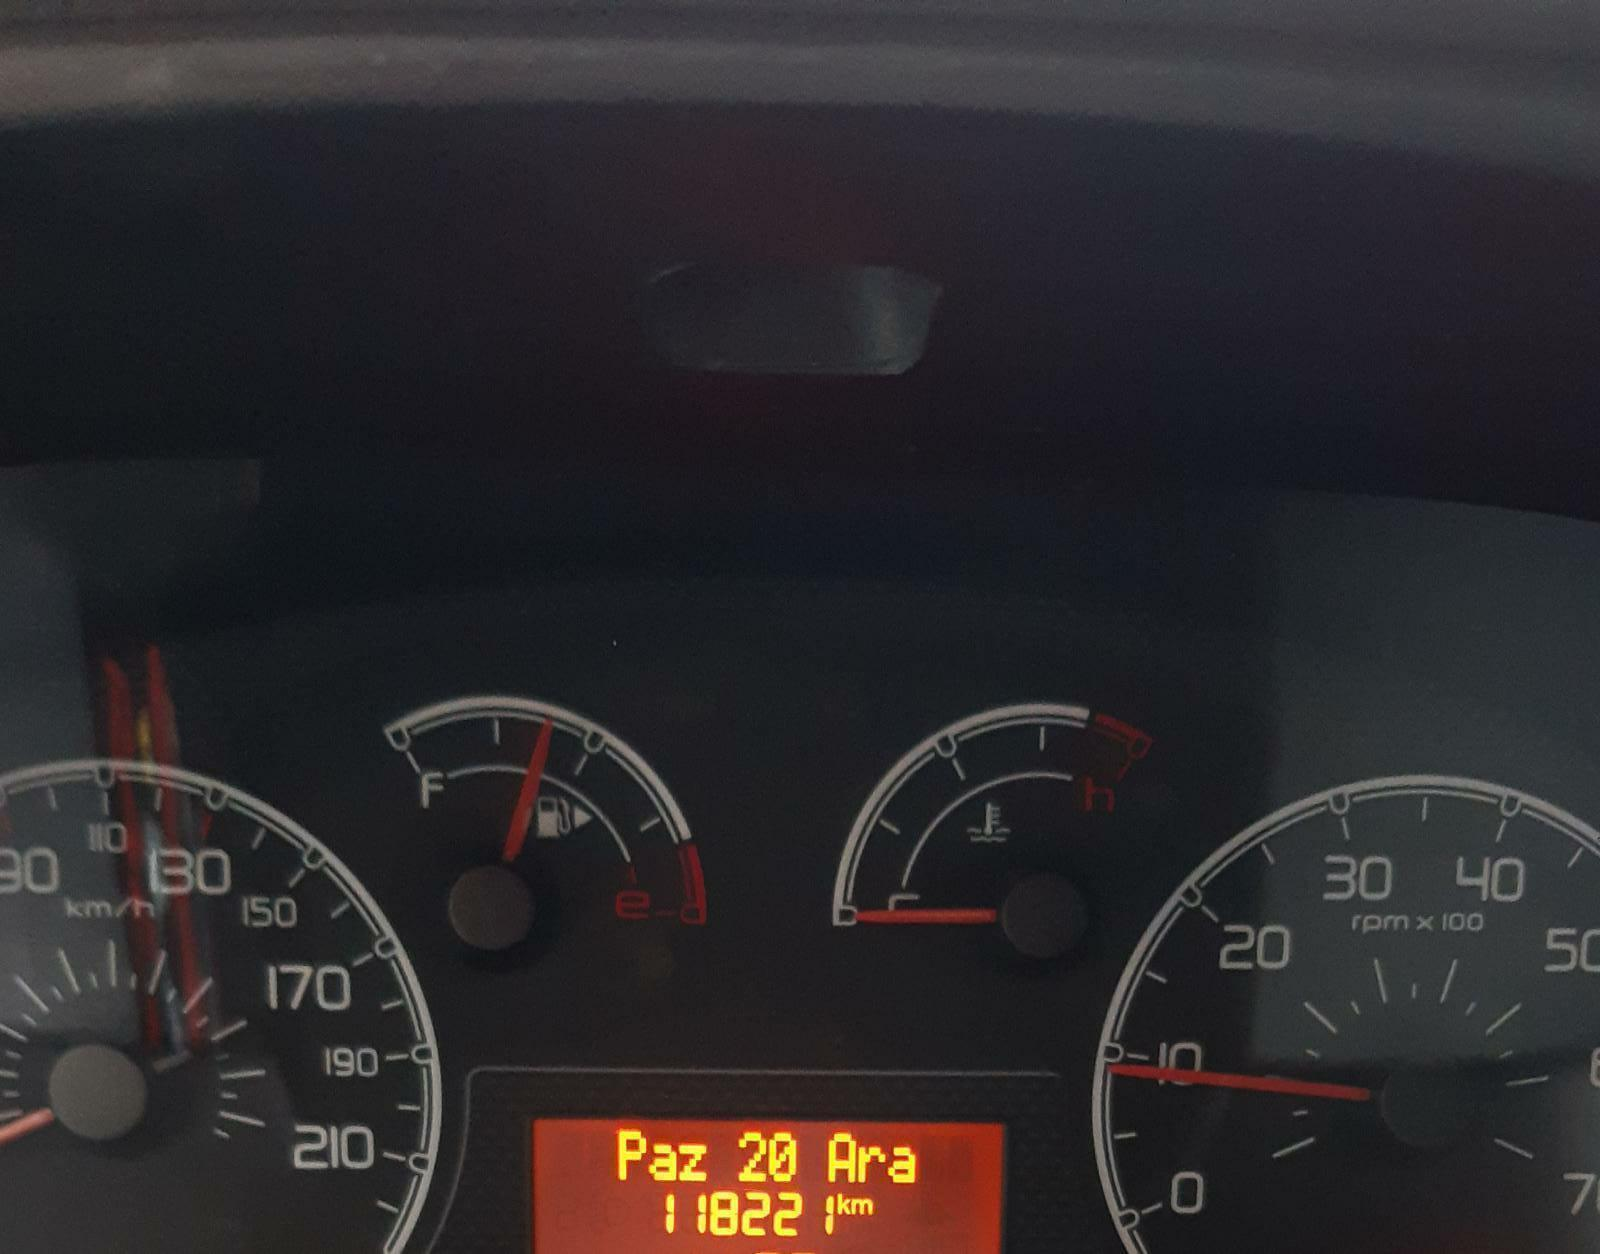0: (769, 1129, 799, 1184)
1: (662, 1186, 678, 1238), (694, 1189, 708, 1236), (823, 1192, 836, 1240)
2: (736, 1128, 768, 1183), (742, 1189, 771, 1236), (775, 1190, 803, 1238)
8: (710, 1188, 738, 1238)
X: (616, 1127, 645, 1181), (826, 1132, 855, 1184), (677, 1142, 708, 1183), (648, 1138, 677, 1181), (890, 1144, 916, 1184), (858, 1145, 883, 1184), (851, 1196, 875, 1216), (836, 1192, 851, 1216)
odometer: (526, 1110, 1012, 1254)
